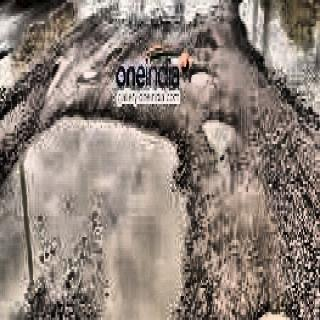pothole: (0, 76, 189, 320), (230, 0, 320, 113), (199, 101, 243, 177), (188, 49, 216, 100), (254, 295, 302, 320)
